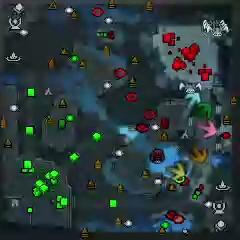x1: (198, 120, 216, 138)
x2: (167, 162, 184, 180)
x3: (185, 91, 201, 108)
x4: (196, 102, 211, 119)
x5: (192, 146, 208, 163)
